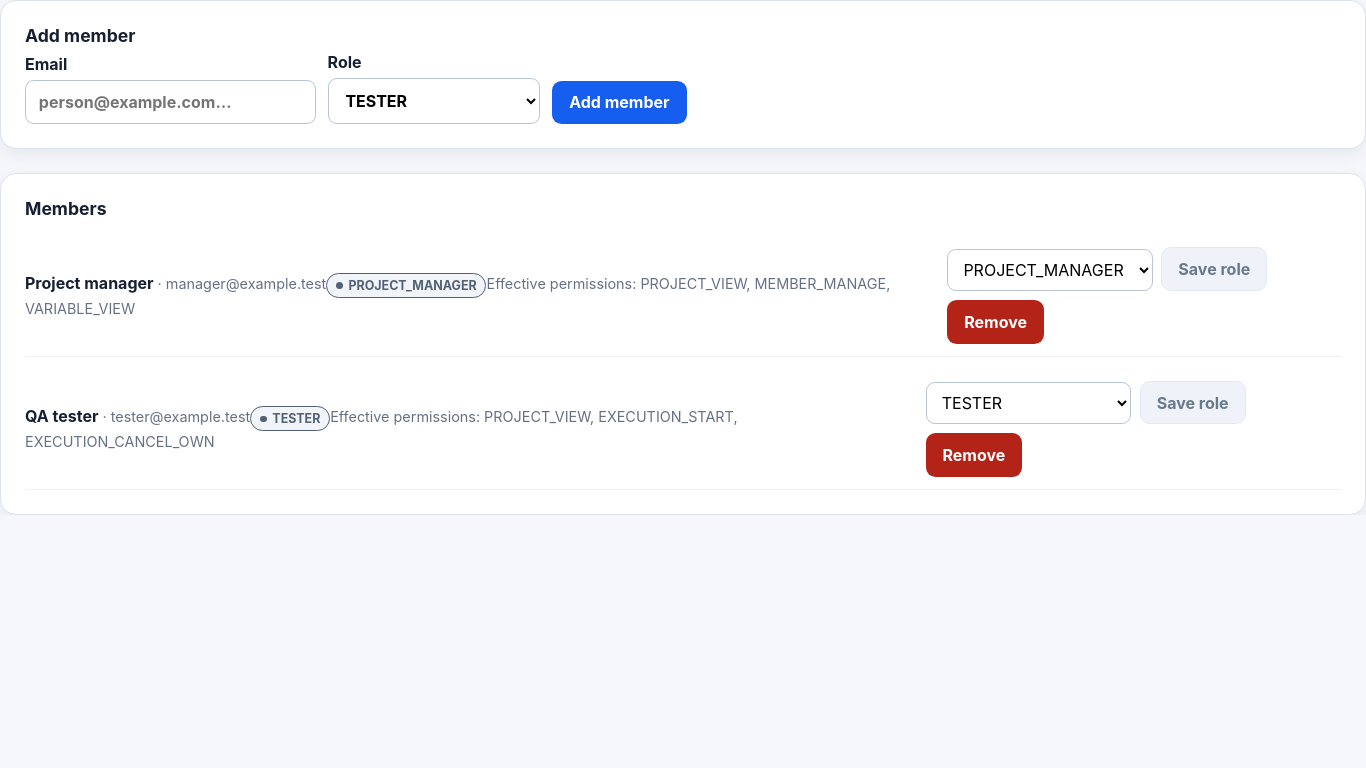
Test: MembersPage › confirms removal and explains the final-manager conflict
Click the 1st button "Remove".
click(996, 322)  # box x1=947 y1=300 x2=1044 y2=344
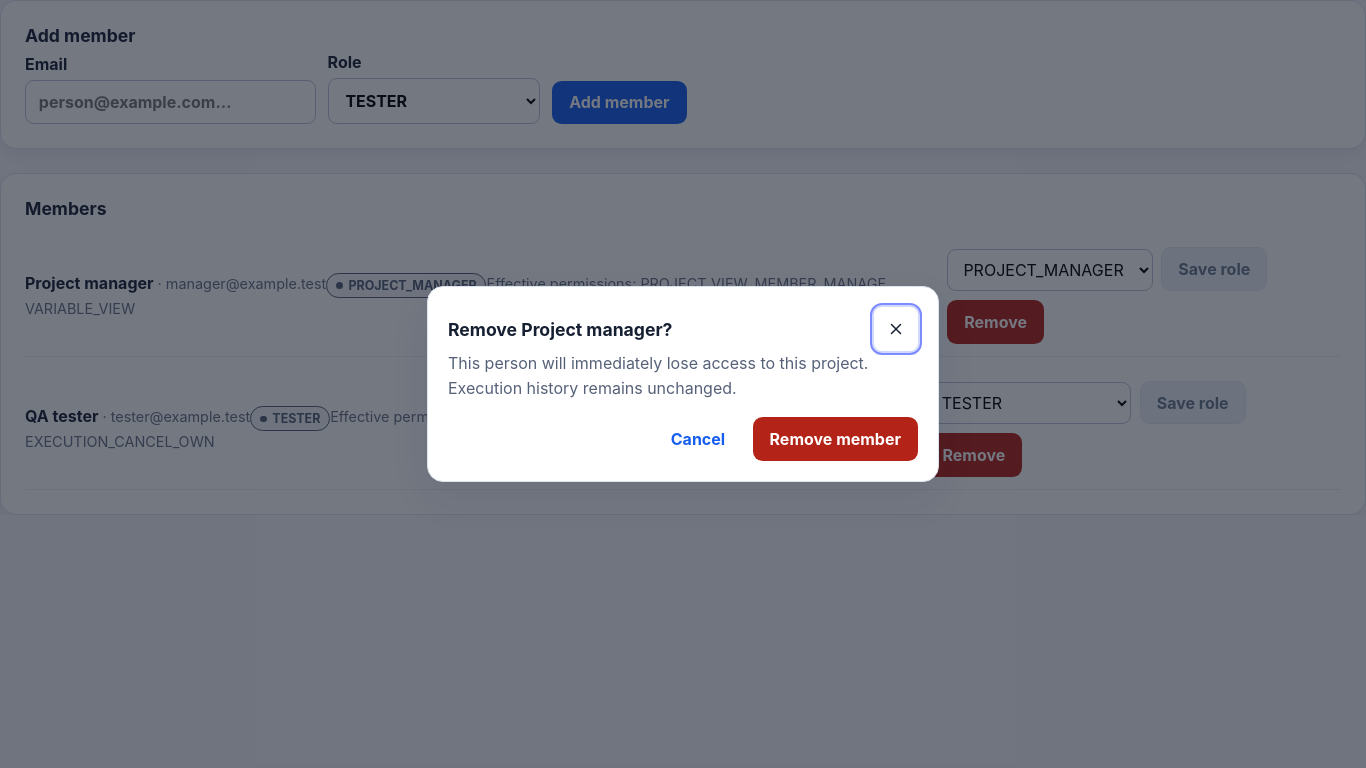
Click the button "Remove member".
click(835, 439)  # box x1=752 y1=417 x2=918 y2=461
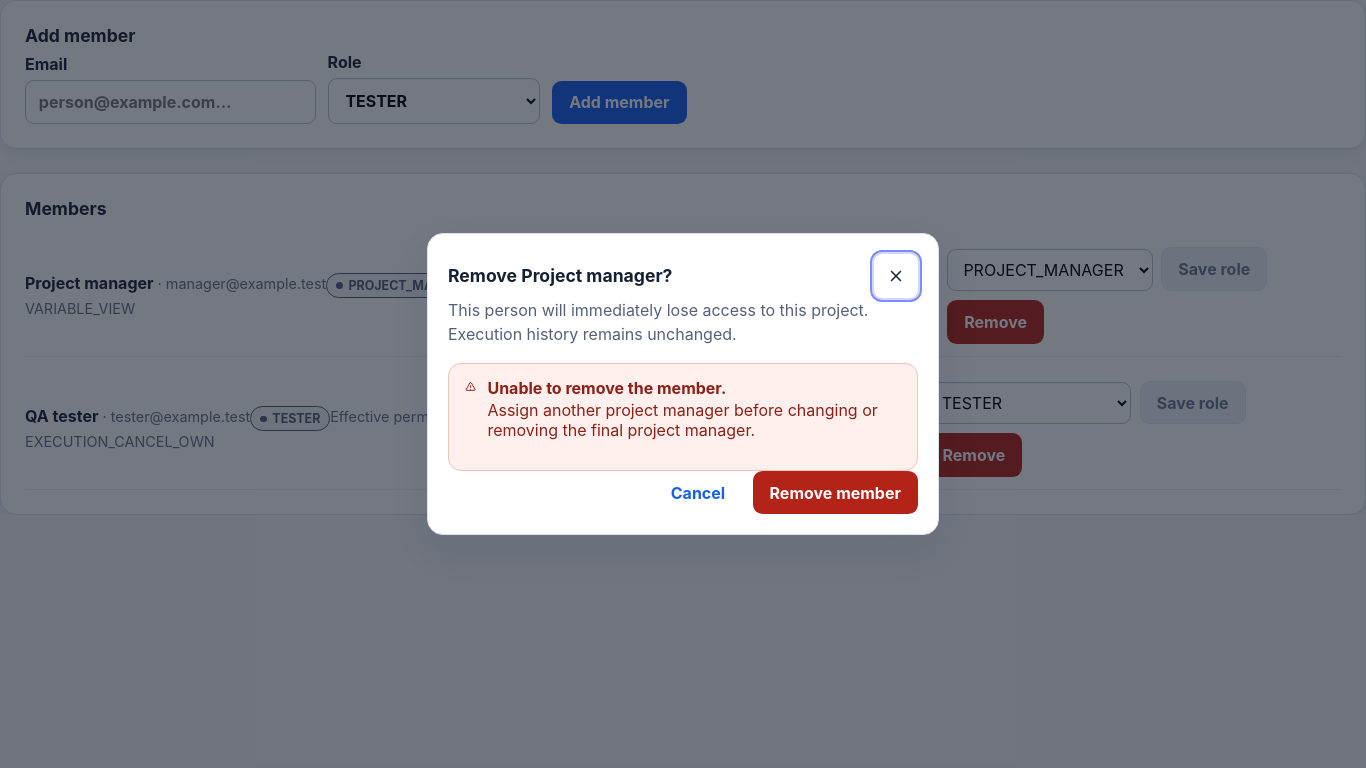
Expected: the text "Assign another project manager before changing or removing the final project manager." is shown, x1=487 y1=400 x2=878 y2=440
